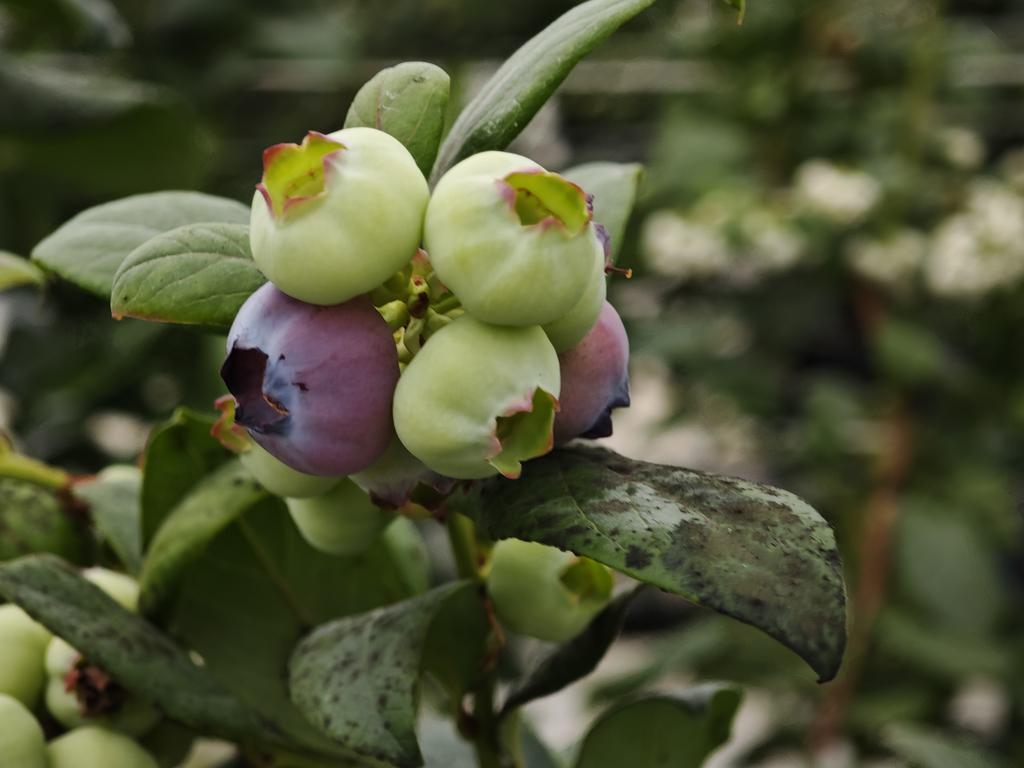Semi-RipeBlueBerry: (218, 276, 401, 478)
UnripeBlueBerry: (250, 118, 425, 309), (422, 143, 602, 328), (391, 313, 569, 484)
